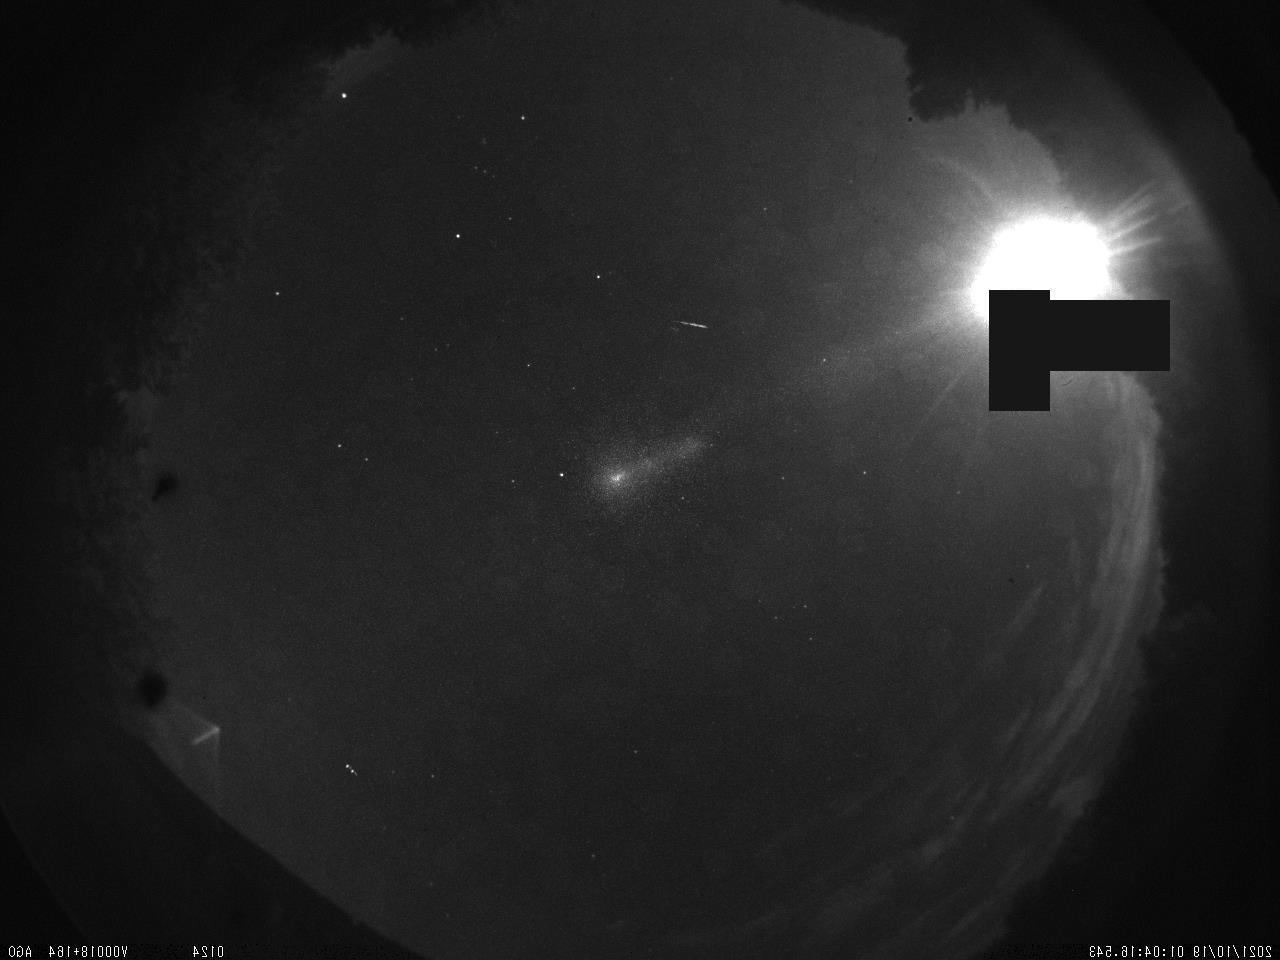meteor: (663, 315, 718, 340)
